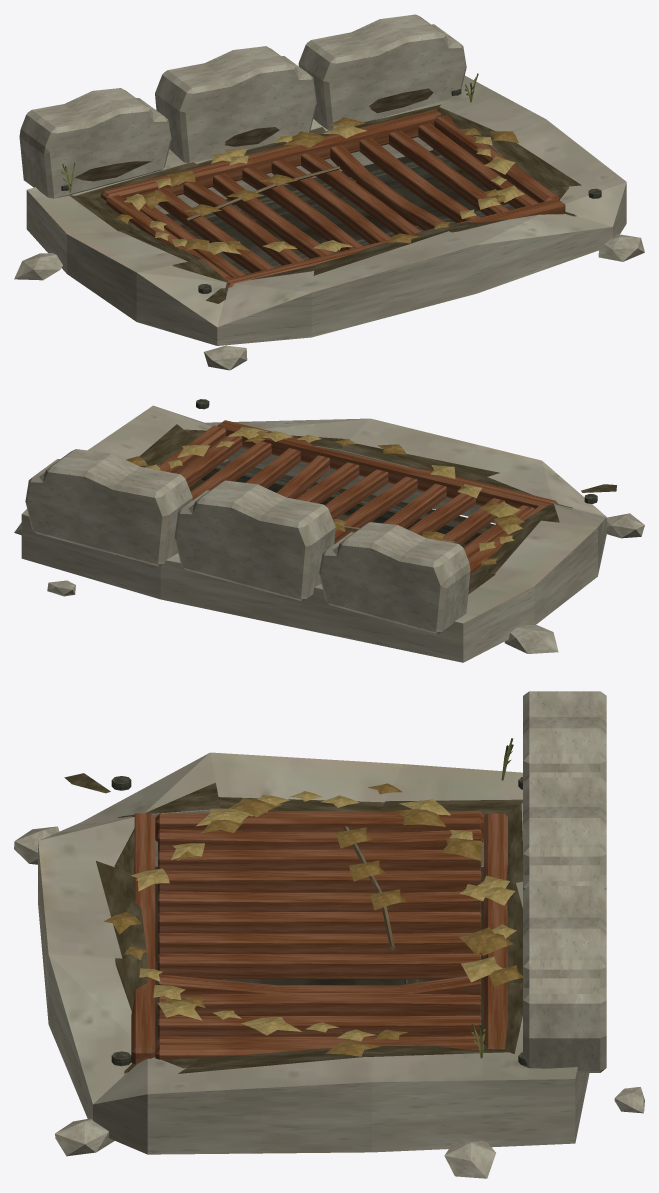
File: nb_storm_drain.glb
3 renders of one model, top to bottom at view 1: azimuth 30°, elevation 25°; view 2: azimuth 150°, elevation 25°; view 3: azimuth 270°, elevation 25°, orthographic. The views are drawn at different scales.
Visible parts, largest first — view 1: Storm_Drain_Clogged_Body; view 2: Storm_Drain_Clogged_Body; view 3: Storm_Drain_Clogged_Body.
Boxes of the visible parts, <box> form: Storm_Drain_Clogged_Body: <box>14,14,644,370</box>; Storm_Drain_Clogged_Body: <box>14,399,644,662</box>; Storm_Drain_Clogged_Body: <box>14,691,644,1178</box>.
Size of the model in its own units: 1.71 by 0.3985 by 1.21.
1 material, 1 textured.
